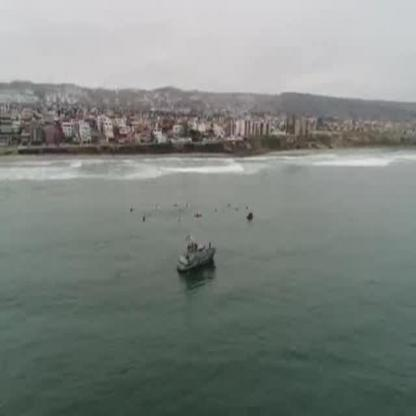Boat: (176, 239, 218, 278)
